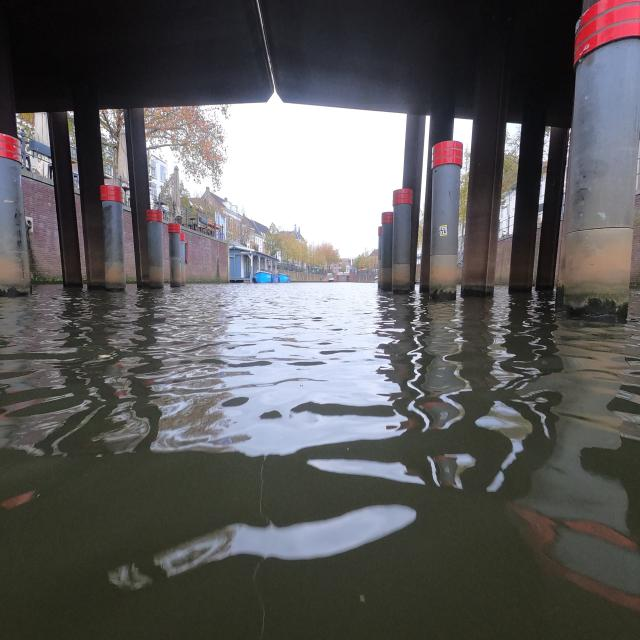boat: (254, 271, 272, 283), (278, 273, 290, 282)
sky: (226, 106, 400, 254)
wall: (574, 4, 638, 218), (558, 228, 630, 294), (24, 172, 62, 278), (178, 228, 228, 284), (430, 254, 458, 286), (495, 236, 512, 285), (532, 224, 540, 286)
water: (6, 286, 634, 636)
